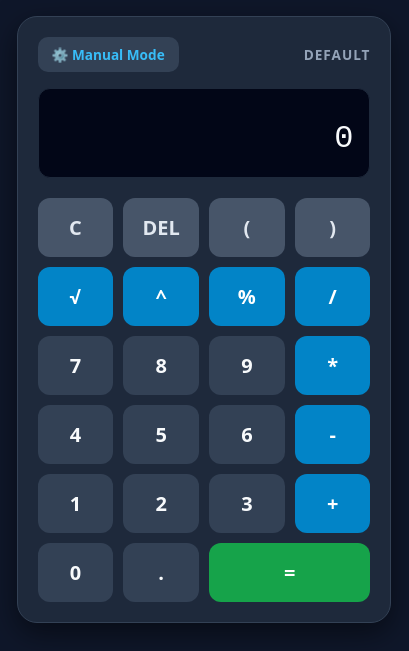
Test: App Component - Interface & Interactions › It should clear the display when the "C" button is clicked.
Step 1. Click the button "9" → coordinates (247, 365), box [209,336,285,394]
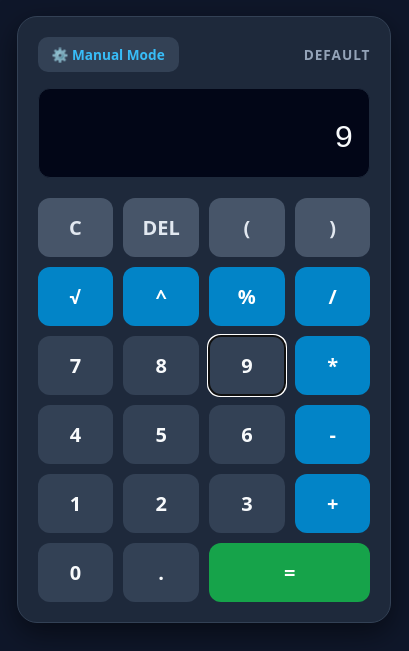
Expected: the text "9" is shown 2 times, [334,120,354,156]; [209,336,285,394]
Step 2. Click the button "C" → coordinates (75, 227), box [38,198,113,256]
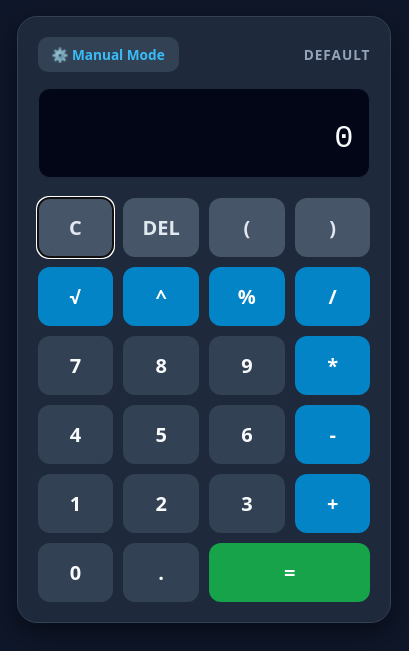
Expected: the text "0" is shown, [334,120,354,156]
